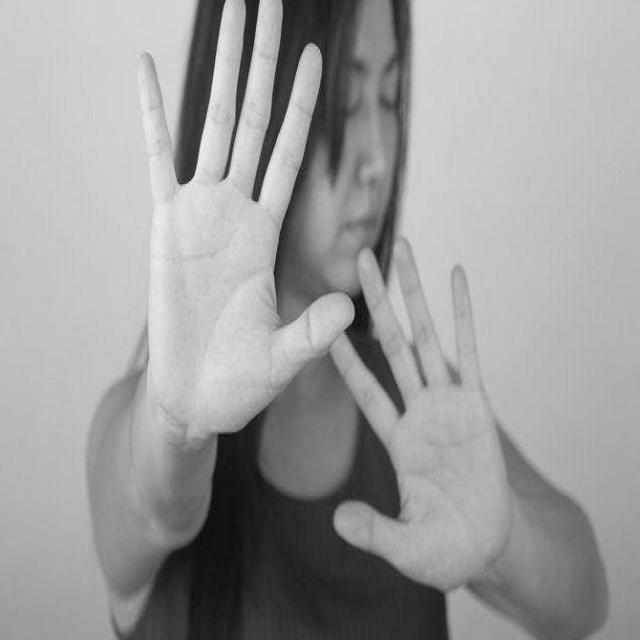stop: (132, 0, 357, 441)
